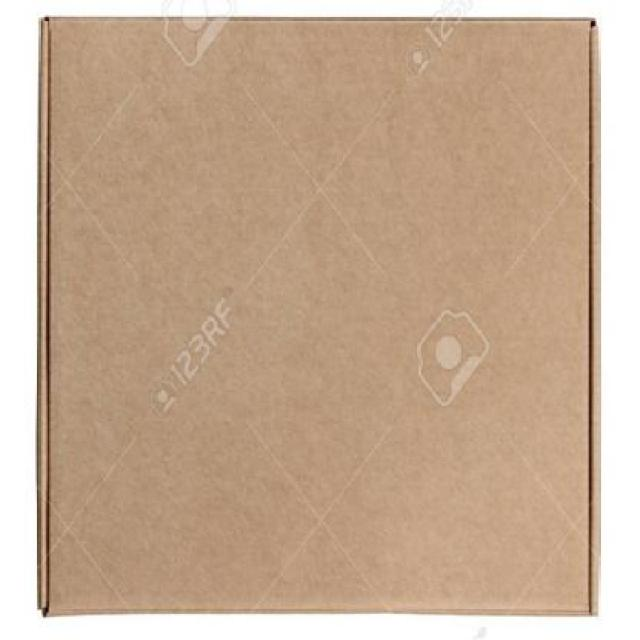cardboxes: (39, 19, 599, 608)
